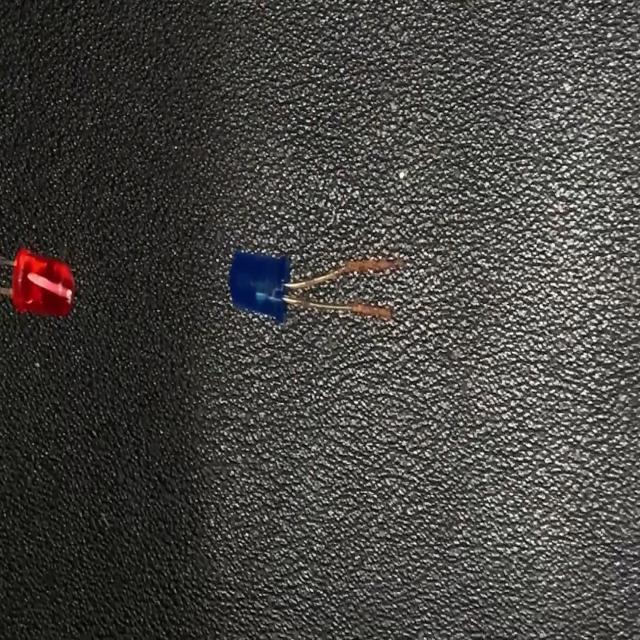LED: (227, 243, 401, 331), (0, 240, 75, 321)
rust: (344, 249, 398, 281), (350, 295, 392, 321)
